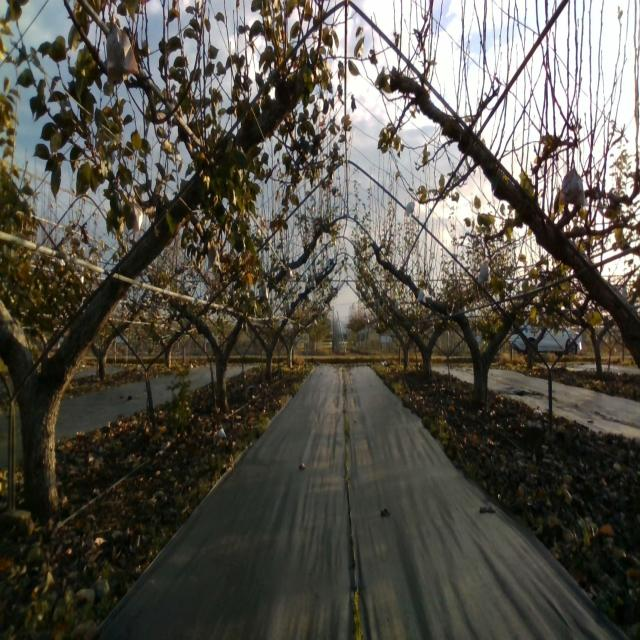pearbags: (106, 15, 139, 85), (558, 158, 586, 207), (128, 196, 144, 239), (478, 261, 490, 284)
